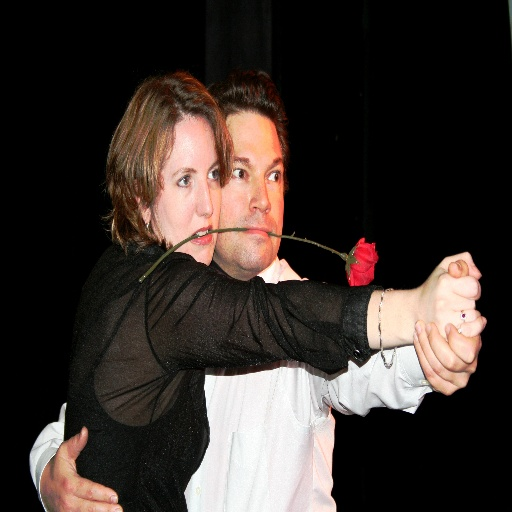hand: (38, 424, 125, 511), (413, 248, 488, 346)
